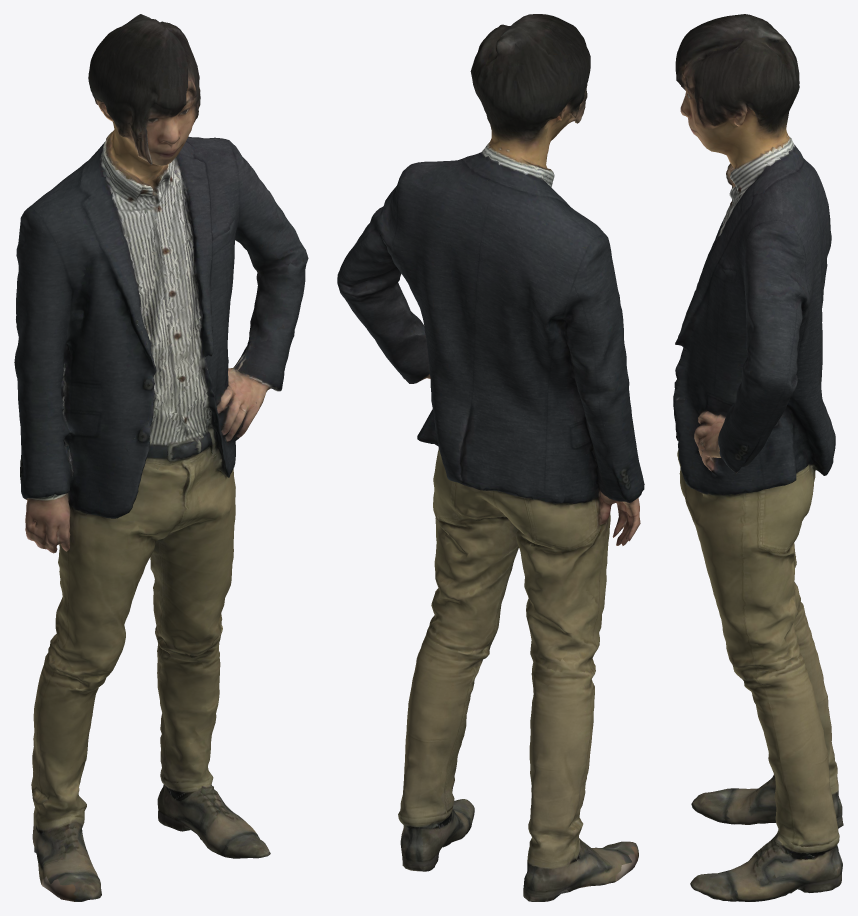
3 views of the same model, side by side, from view 1: azimuth 30°, elevation 25°; view 2: azimuth 150°, elevation 25°; view 3: azimuth 270°, elevation 25° (orthographic).
Visible parts, largest first — view 1: me2; view 2: me2; view 3: me2.
Boxes of the visible parts, x1=… form: me2: x1=14, y1=14, x2=308, y2=901; me2: x1=337, y1=14, x2=644, y2=901; me2: x1=673, y1=14, x2=843, y2=901.
Size of the model in its own units: 0.6083 by 1.7 by 0.3146.
1 material, 1 textured.
